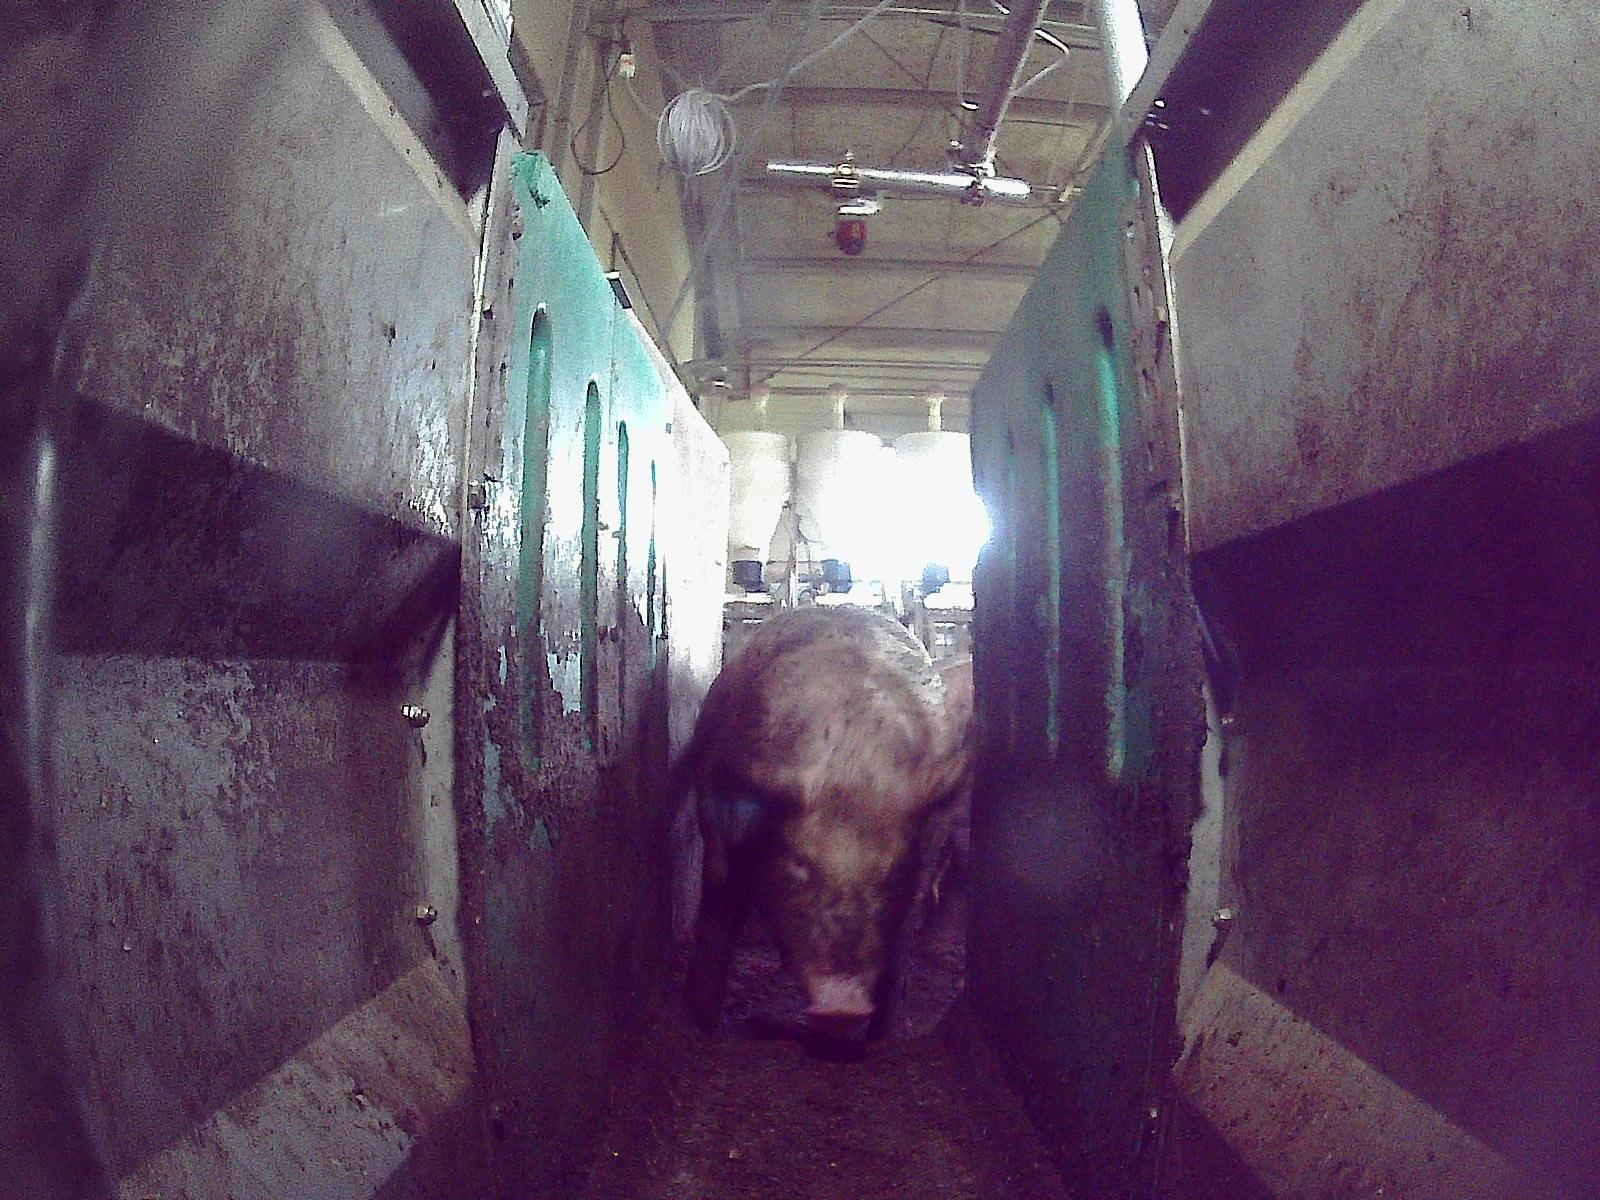Face: (753, 777, 916, 1033)
